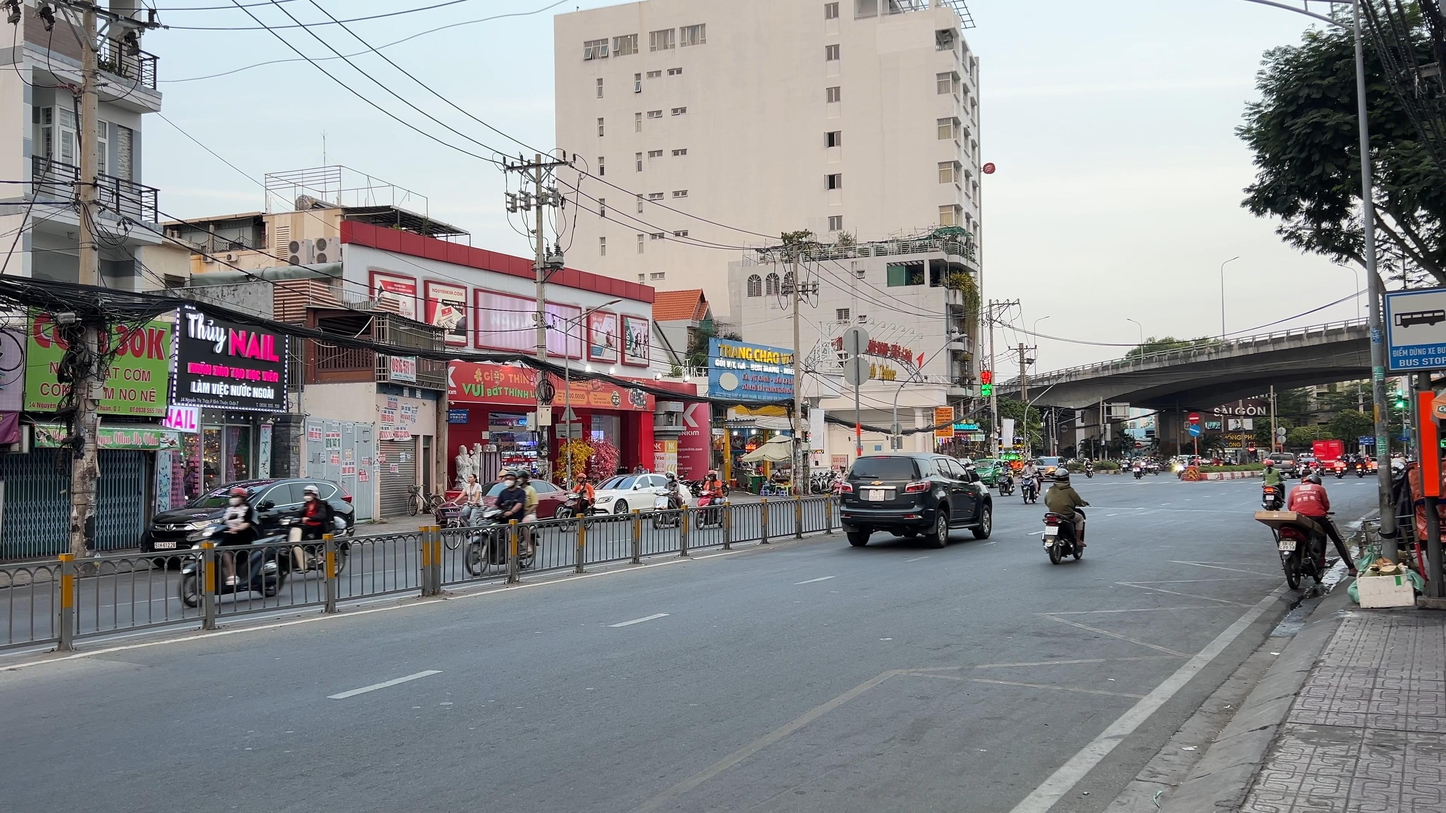bicyclist: (444, 473, 488, 551)
driver: (179, 487, 291, 608), (1255, 473, 1358, 591), (465, 469, 540, 576), (275, 485, 350, 576), (1041, 468, 1092, 565), (559, 472, 596, 533), (650, 471, 685, 530), (695, 470, 728, 530), (1261, 459, 1287, 511), (1018, 457, 1041, 504), (996, 460, 1016, 496)
helmet: (227, 488, 248, 506), (302, 485, 319, 501), (504, 470, 518, 489), (516, 469, 530, 486), (1054, 468, 1069, 482), (1305, 474, 1321, 486), (707, 470, 717, 483), (577, 473, 586, 484), (666, 472, 675, 483), (1266, 459, 1274, 468), (1027, 457, 1033, 466)
no-helmet: (468, 473, 479, 484)
